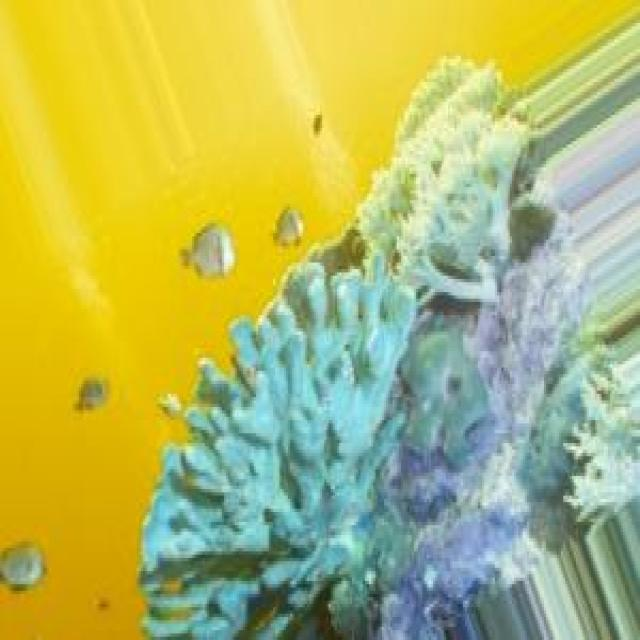Healthy: (142, 267, 419, 640), (364, 60, 534, 283), (389, 303, 502, 539)
